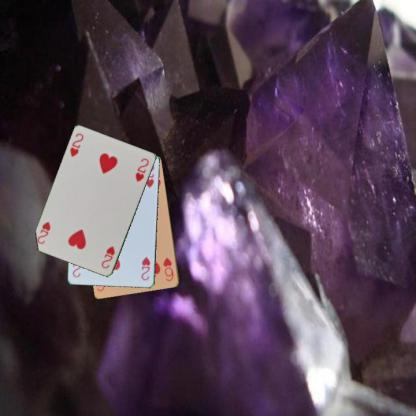2h: (68, 130, 86, 158), (99, 244, 116, 270), (139, 254, 151, 282)
6h: (160, 254, 176, 282)
